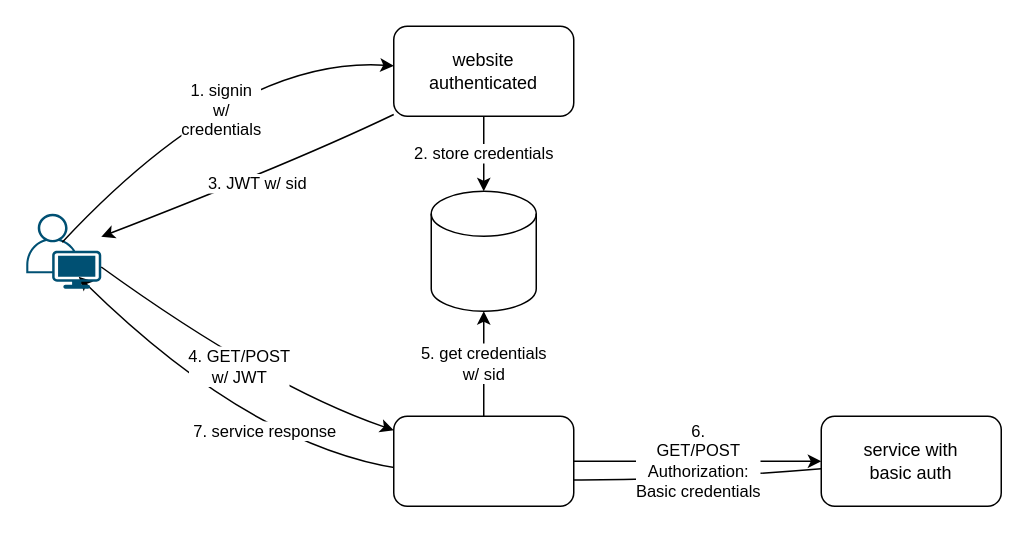
The diagram is 1028 pixels wide and 533 high, and some of its shapes have lost their labels. Each missing label, with the centre of its shape:
"auth_proxy" goes at pixel 483 460.
"Redis credential store" goes at pixel 483 250.
